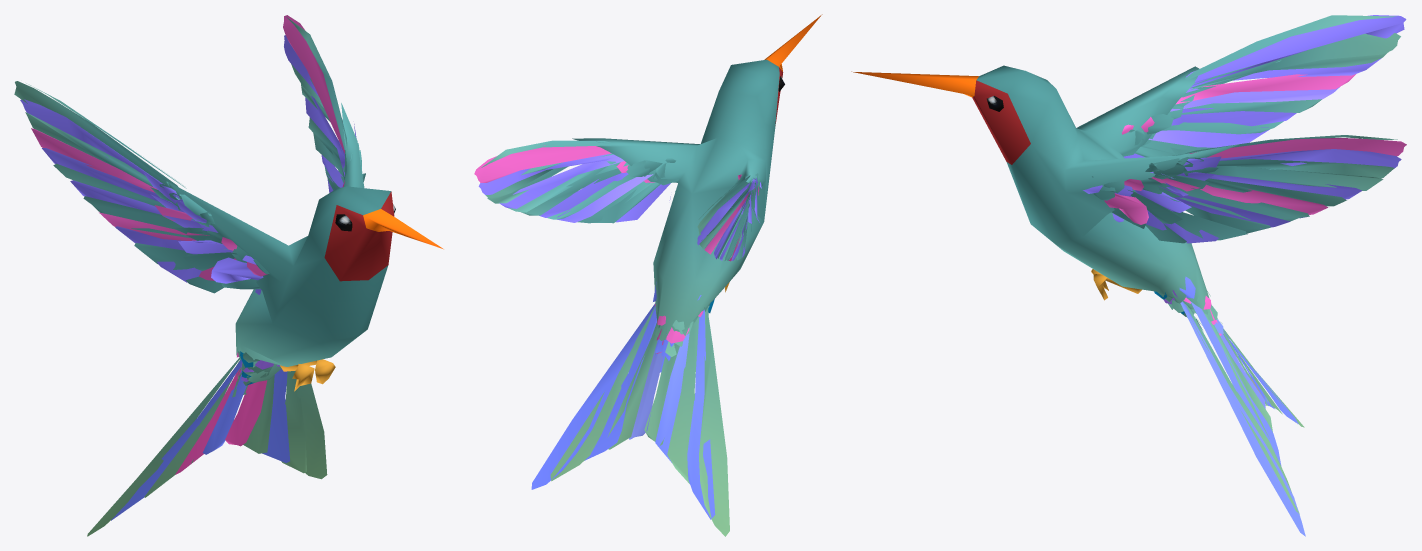
The model's file is f5125921-37a2-442d-9aaa-3aa2c248a35f.glb.
The picture shows the model from 3 angles, left to right: view 1: azimuth 30°, elevation 25°; view 2: azimuth 150°, elevation 25°; view 3: azimuth 270°, elevation 25°; orthographic projection. The views are drawn at different scales.
Visible parts, largest first — view 1: HummingBird; view 2: HummingBird; view 3: HummingBird.
Boxes of the visible parts, x1,y1,x2,y2 form: HummingBird: (14,15,443,536); HummingBird: (474,14,822,536); HummingBird: (851,15,1406,536).
Size of what is drawn, in the model's own units: 0.1873 by 0.2828 by 0.3467.
2 materials, 2 textured.
